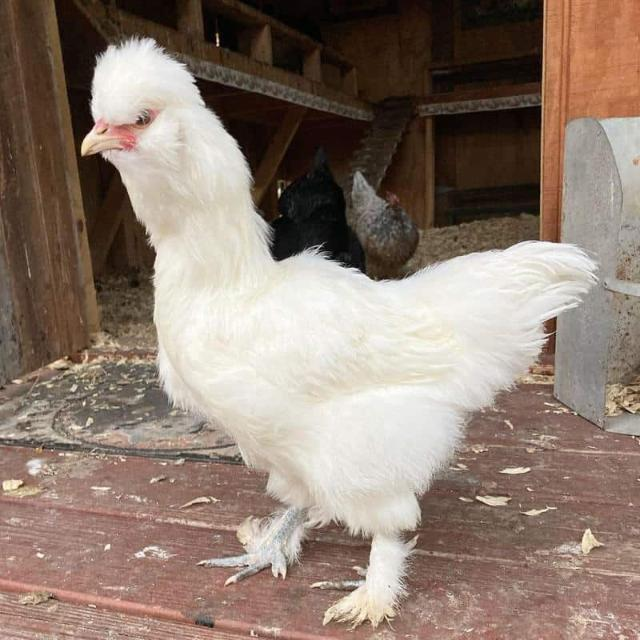Chicken: (79, 34, 597, 628), (348, 167, 420, 278)
